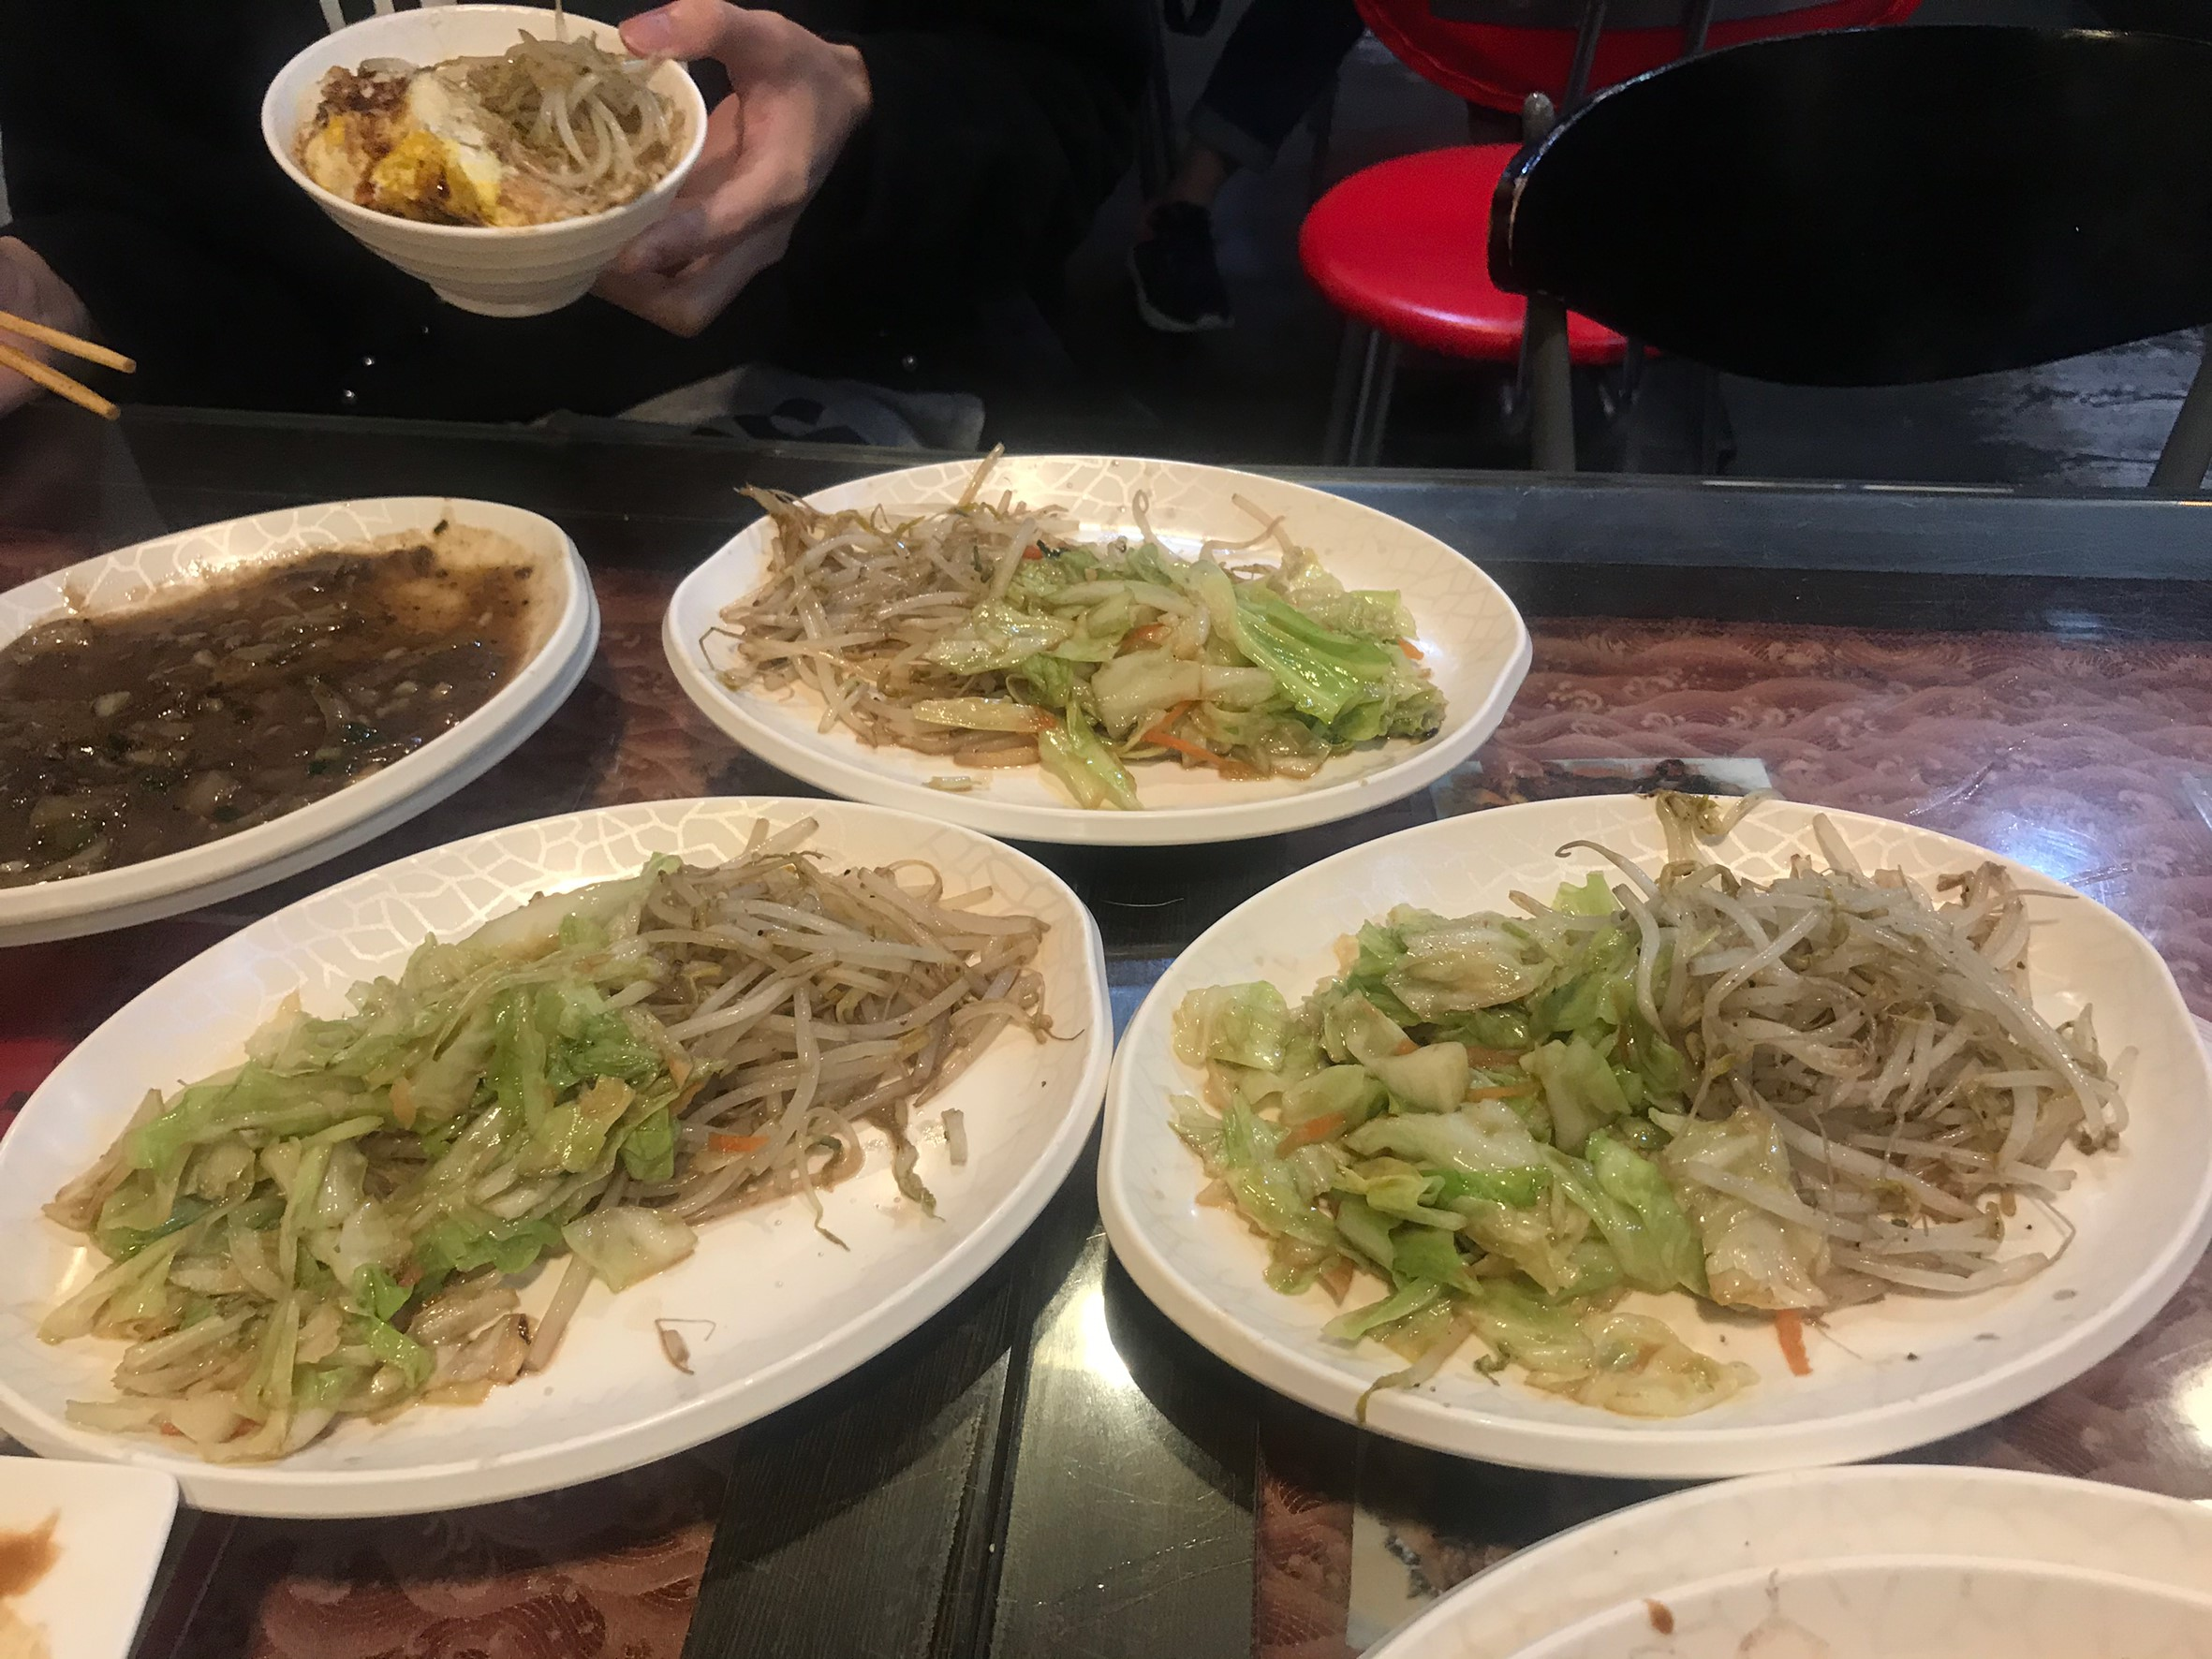chinese_cabbage: (99, 878, 634, 1445), (1173, 882, 1726, 1410), (1025, 542, 1445, 788)
mung_bean_sprouts: (1682, 863, 2057, 1326), (634, 838, 1032, 1202), (750, 483, 1014, 748), (495, 21, 682, 199)
